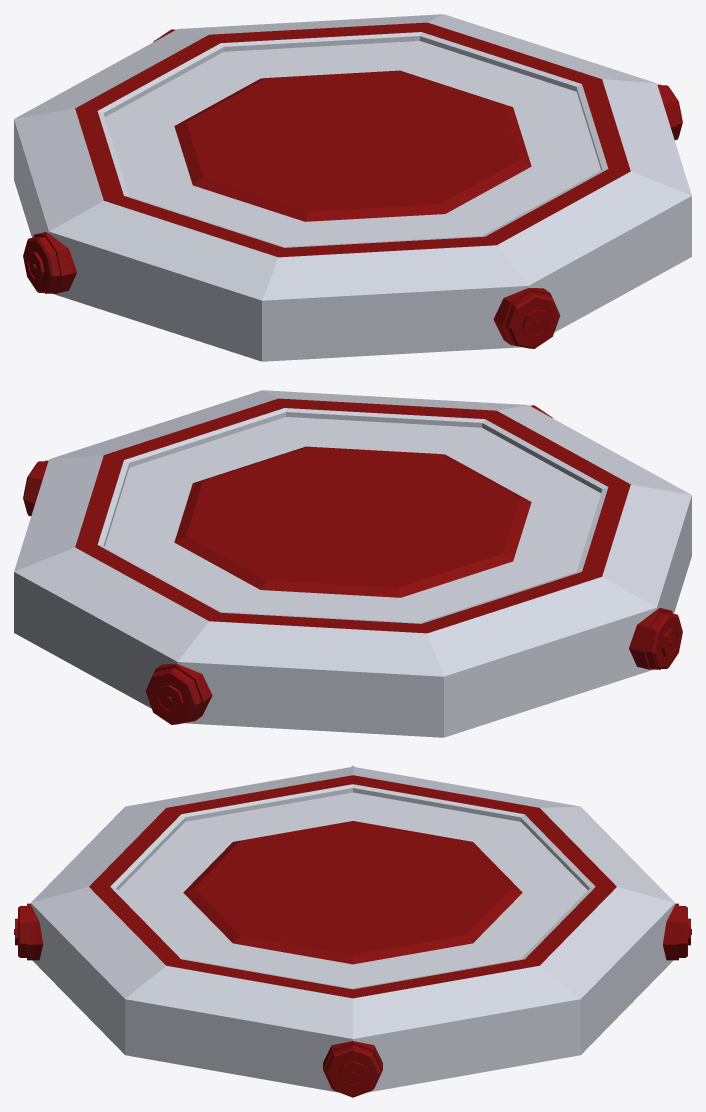
The model's file is teleport.obj.
3 renders of one model, top to bottom at view 1: azimuth 30°, elevation 25°; view 2: azimuth 150°, elevation 25°; view 3: azimuth 270°, elevation 25°, orthographic. The views are drawn at different scales.
Parts seen in each view (by area): view 1: teleport.obj; view 2: teleport.obj; view 3: teleport.obj.
Part boxes in pixels (x1,y1,x2,y2): teleport.obj: [14, 14, 691, 361]; teleport.obj: [14, 390, 691, 737]; teleport.obj: [14, 766, 691, 1097].
Bounding box in the file's own units: 3.01 × 0.3545 × 3.01.
